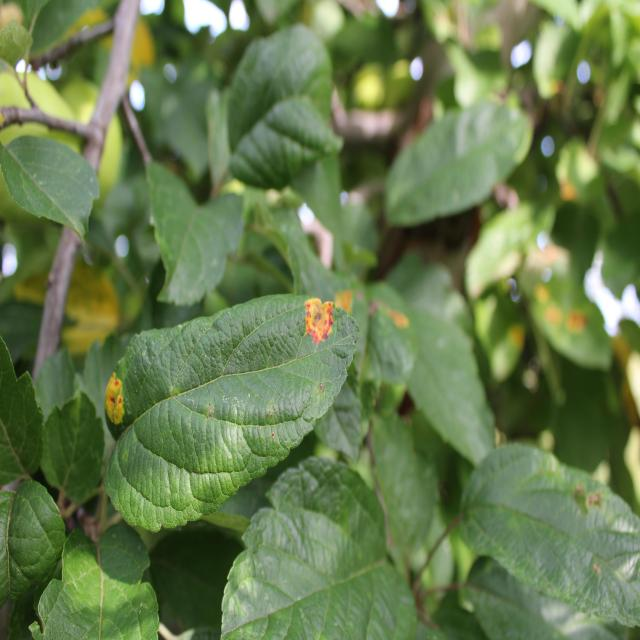Rust: (299, 291, 338, 356), (95, 370, 132, 436)
